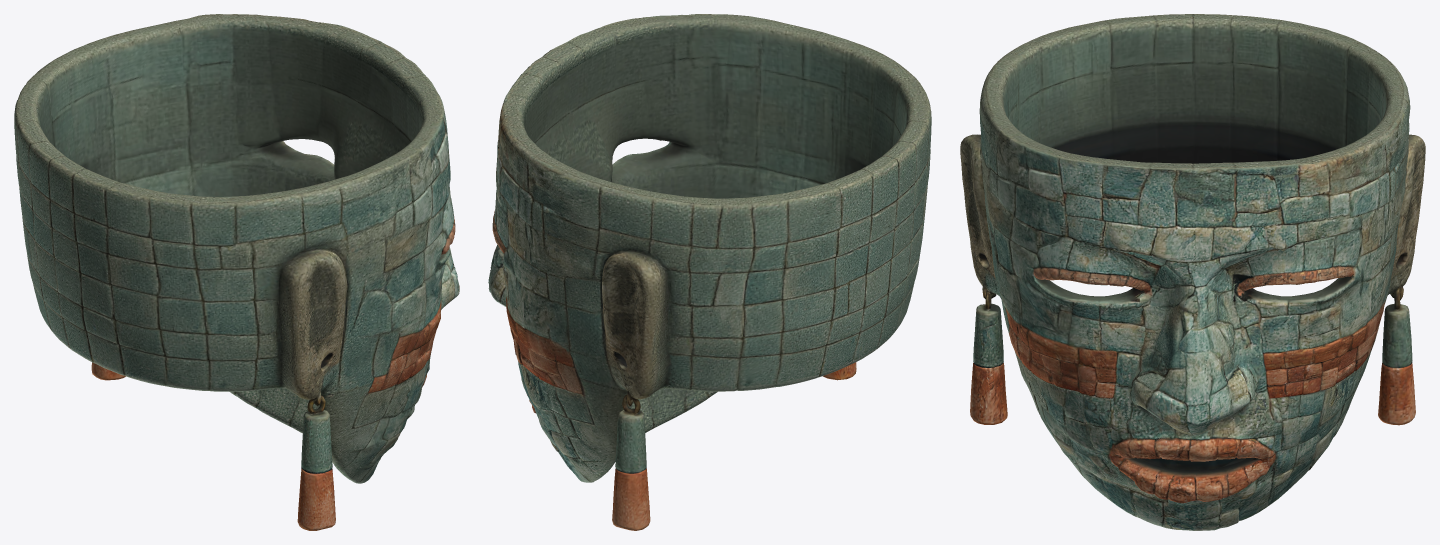
Rendered from hyp-3.glb.
The picture shows the model from 3 angles, left to right: view 1: azimuth 30°, elevation 25°; view 2: azimuth 150°, elevation 25°; view 3: azimuth 270°, elevation 25°; orthographic projection.
Parts seen in each view (by area): view 1: tripo_node_29d4b154-56e1-4e0f-a957-ecfe53620ab8; view 2: tripo_node_29d4b154-56e1-4e0f-a957-ecfe53620ab8; view 3: tripo_node_29d4b154-56e1-4e0f-a957-ecfe53620ab8.
Part boxes in pixels (bbox=[...]): tripo_node_29d4b154-56e1-4e0f-a957-ecfe53620ab8: bbox=[14, 14, 459, 530]; tripo_node_29d4b154-56e1-4e0f-a957-ecfe53620ab8: bbox=[488, 14, 931, 530]; tripo_node_29d4b154-56e1-4e0f-a957-ecfe53620ab8: bbox=[960, 14, 1425, 530].
Size of the model in its own units: 0.9971 by 0.9209 by 1.
1 material, 1 textured.
